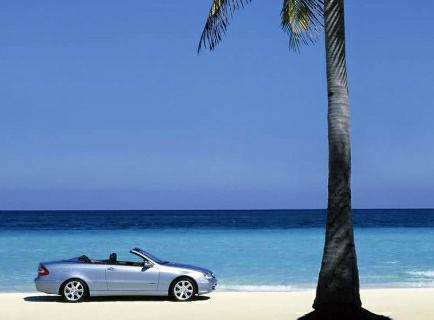奔驰-CLK级: (26, 250, 222, 306)
